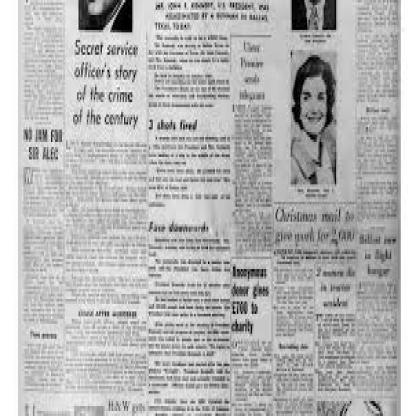paper: (17, 0, 398, 414)
